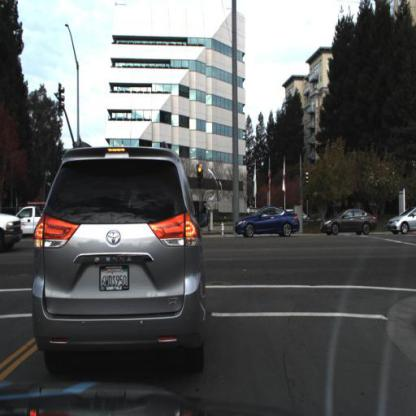car: (31, 140, 211, 374), (235, 205, 301, 241), (319, 208, 379, 239), (15, 200, 50, 240), (387, 207, 416, 236)
trafficLight-Red: (196, 162, 204, 189)
